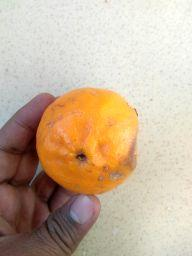Unripe: (36, 88, 141, 195)
